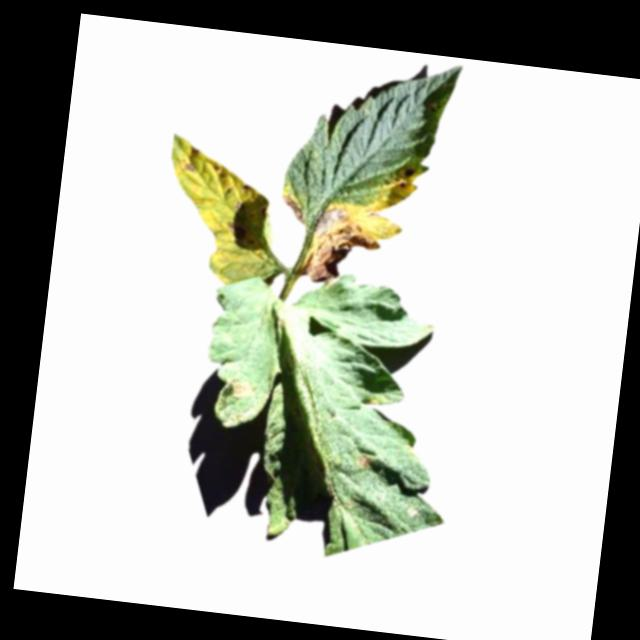Early_blight: (302, 201, 387, 293), (279, 192, 311, 224), (180, 141, 203, 176), (387, 159, 417, 183), (225, 376, 255, 397), (353, 450, 374, 470)
